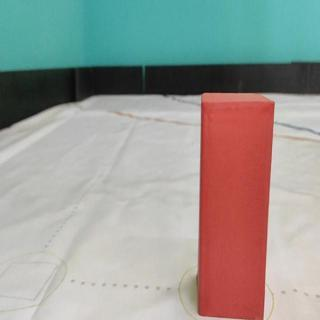redbox: (199, 94, 272, 320)
